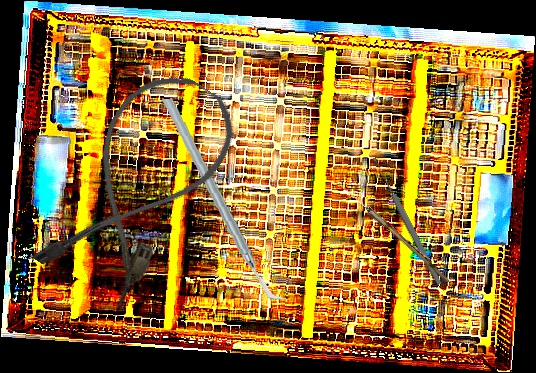Cannula: (25, 55, 251, 316)
Chopper: (160, 91, 287, 308)
Surgical Spoon: (336, 181, 453, 284), (371, 155, 443, 287)
